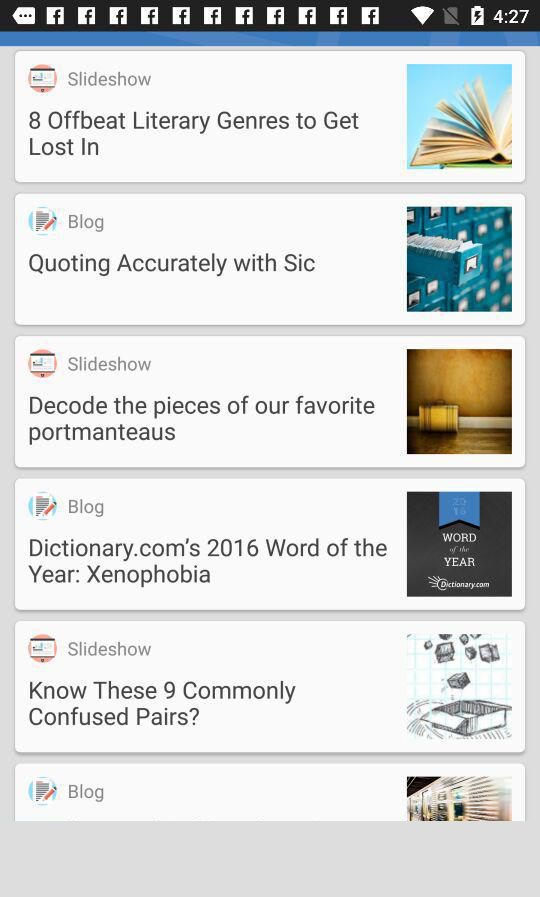Card: (14, 619, 527, 756), (13, 335, 528, 470), (14, 192, 527, 327), (12, 478, 528, 612), (14, 50, 526, 184)
Image: (407, 634, 513, 741), (407, 491, 512, 597), (407, 65, 513, 170), (407, 350, 512, 455), (408, 207, 512, 313), (406, 776, 512, 821), (28, 634, 58, 664), (29, 776, 58, 806), (28, 350, 58, 379), (29, 64, 58, 94), (29, 208, 58, 237), (29, 493, 58, 521)
Text: (29, 537, 388, 588), (29, 395, 375, 446), (30, 110, 360, 157), (29, 680, 297, 727), (29, 253, 316, 277), (68, 640, 152, 657), (68, 356, 152, 373), (69, 71, 153, 88), (69, 783, 105, 803), (69, 498, 105, 518), (69, 214, 105, 234)
UpperTaskBar: (1, 1, 540, 33)
